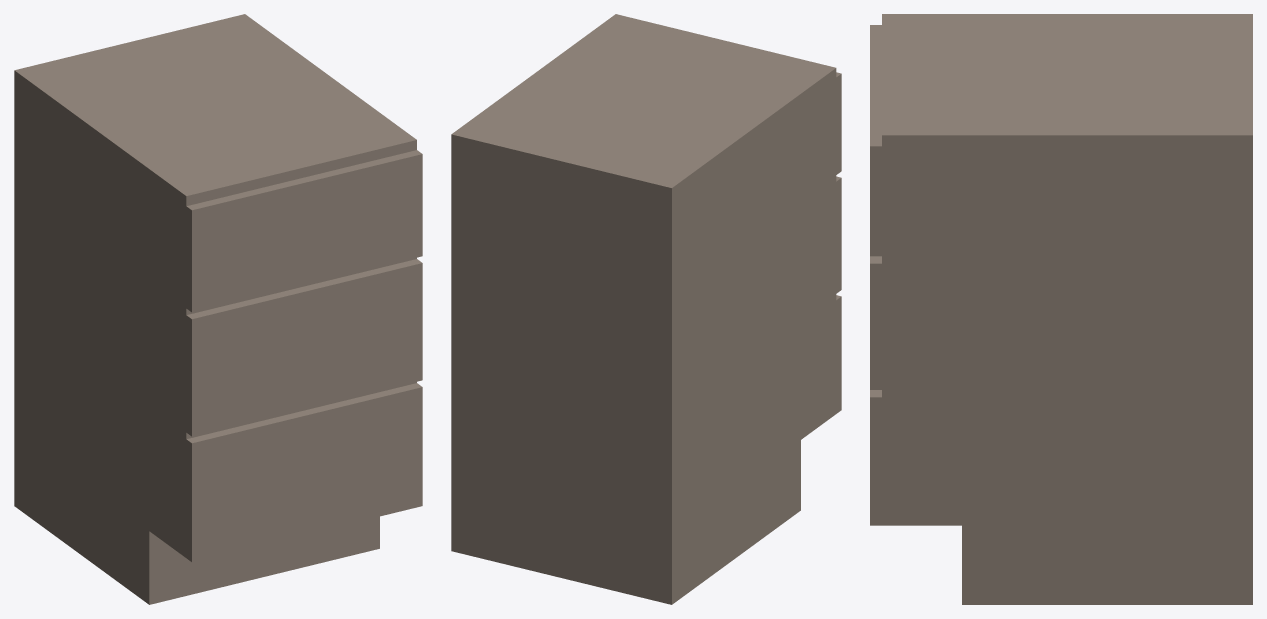
File: Universal-Design-Base-Cabinet-Three-Drawer-24-Deep_std_001_W18i.glb
3 views of the same model, side by side, from view 1: azimuth 30°, elevation 25°; view 2: azimuth 150°, elevation 25°; view 3: azimuth 270°, elevation 25° (orthographic). The views are drawn at different scales.
Parts seen in each view (by area): view 1: Universal-Design-Base-Cabinet-Three-Drawer-24-Deep.std.001_W; view 2: Universal-Design-Base-Cabinet-Three-Drawer-24-Deep.std.001_W; view 3: Universal-Design-Base-Cabinet-Three-Drawer-24-Deep.std.001_W.
Part boxes in pixels (bbox=[...]): Universal-Design-Base-Cabinet-Three-Drawer-24-Deep.std.001_W: bbox=[14, 14, 422, 604]; Universal-Design-Base-Cabinet-Three-Drawer-24-Deep.std.001_W: bbox=[451, 14, 841, 604]; Universal-Design-Base-Cabinet-Three-Drawer-24-Deep.std.001_W: bbox=[870, 14, 1252, 604].
Bounding box in the file's own units: 0.4572 × 0.8255 × 0.6096.
